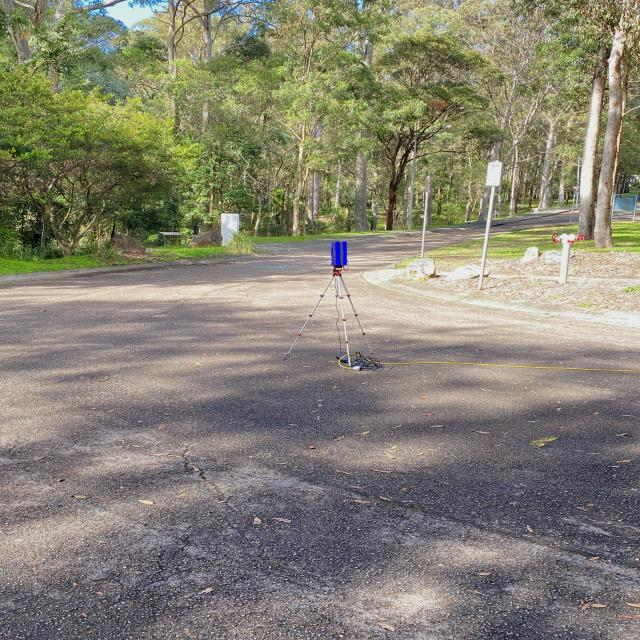matrix: (329, 240, 350, 267)
